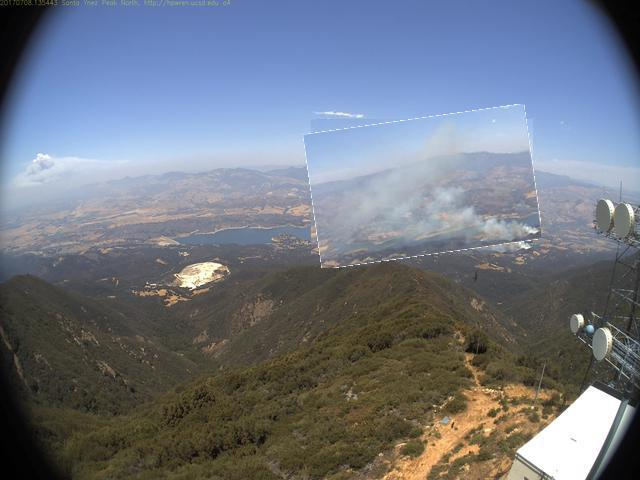smoke: (308, 113, 539, 263)
